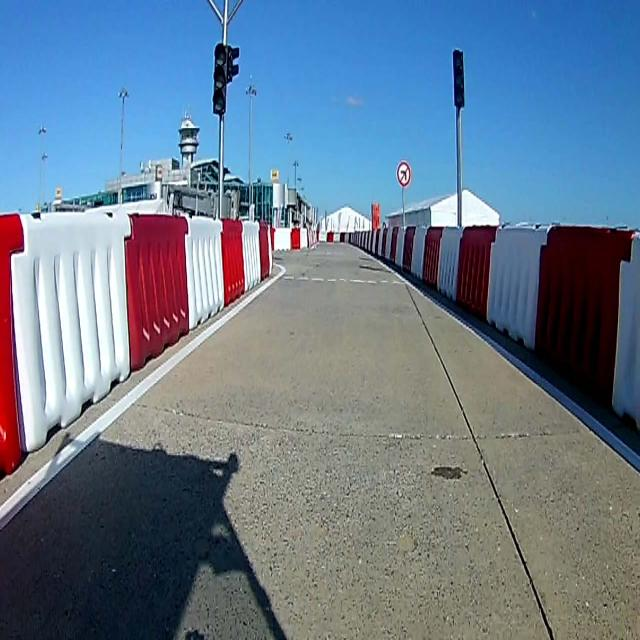soladonulmez: (397, 158, 412, 188)
